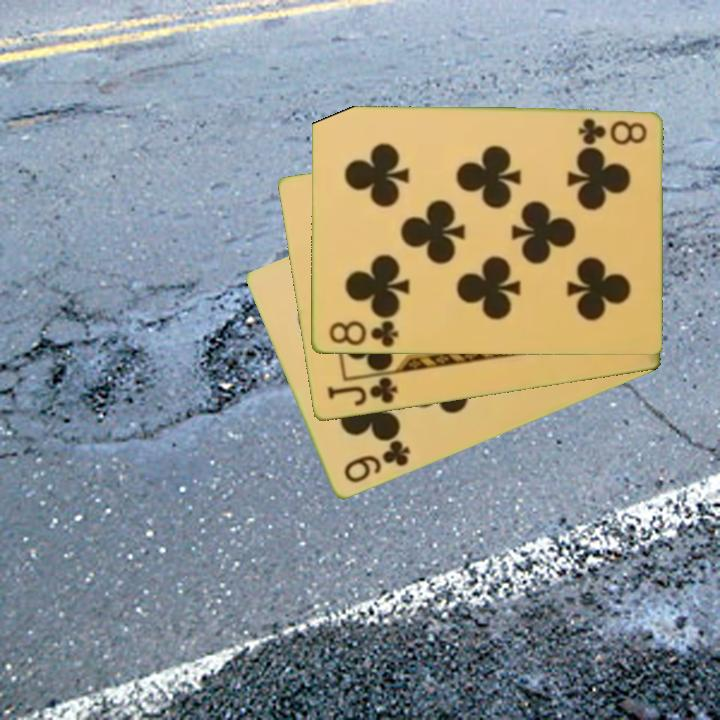8c: (325, 318, 400, 351), (574, 115, 649, 146)
9c: (340, 437, 413, 487)
Jc: (323, 374, 400, 410)
